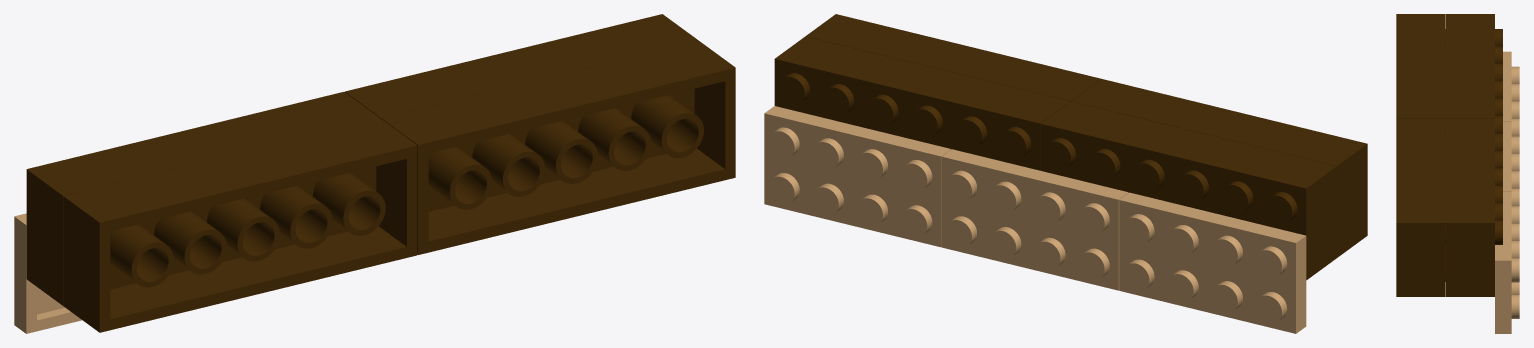
File: mesitaCelador.dae
3 renders of one model, left to right at view 1: azimuth 30°, elevation 25°; view 2: azimuth 150°, elevation 25°; view 3: azimuth 270°, elevation 25°, orthographic. The views are drawn at different scales.
Visible parts, largest first — view 1: Inner-Node-UntitledModel_dot_io-0, Inner-Node-UntitledModel_dot_io-1, Inner-Node-UntitledModel_dot_io-2, Inner-Node-UntitledModel_dot_io-3, Inner-Node-UntitledModel_dot_io-6; view 2: Inner-Node-UntitledModel_dot_io-2, Inner-Node-UntitledModel_dot_io-3, Inner-Node-UntitledModel_dot_io-6, Inner-Node-UntitledModel_dot_io-5, Inner-Node-UntitledModel_dot_io-4, Inner-Node-UntitledModel_dot_io-0, Inner-Node-UntitledModel_dot_io-1; view 3: Inner-Node-UntitledModel_dot_io-3, Inner-Node-UntitledModel_dot_io-1, Inner-Node-UntitledModel_dot_io-2, Inner-Node-UntitledModel_dot_io-0, Inner-Node-UntitledModel_dot_io-4, Inner-Node-UntitledModel_dot_io-6, Inner-Node-UntitledModel_dot_io-5.
Part boxes in pixels (box(x1,y1,x2,y2)): Inner-Node-UntitledModel_dot_io-0: box(63, 118, 417, 332); Inner-Node-UntitledModel_dot_io-1: box(381, 41, 735, 254); Inner-Node-UntitledModel_dot_io-2: box(26, 92, 380, 305); Inner-Node-UntitledModel_dot_io-3: box(345, 14, 698, 118); Inner-Node-UntitledModel_dot_io-6: box(14, 213, 81, 333); Inner-Node-UntitledModel_dot_io-2: box(1040, 101, 1336, 280); Inner-Node-UntitledModel_dot_io-3: box(774, 36, 1070, 170); Inner-Node-UntitledModel_dot_io-6: box(1119, 192, 1306, 333); Inner-Node-UntitledModel_dot_io-5: box(941, 149, 1128, 290); Inner-Node-UntitledModel_dot_io-4: box(764, 106, 951, 247); Inner-Node-UntitledModel_dot_io-0: box(1071, 79, 1367, 257); Inner-Node-UntitledModel_dot_io-1: box(805, 14, 1101, 101); Inner-Node-UntitledModel_dot_io-3: box(1445, 118, 1502, 296); Inner-Node-UntitledModel_dot_io-1: box(1396, 118, 1445, 296); Inner-Node-UntitledModel_dot_io-2: box(1445, 14, 1502, 133); Inner-Node-UntitledModel_dot_io-0: box(1396, 14, 1445, 133); Inner-Node-UntitledModel_dot_io-4: box(1495, 191, 1519, 333); Inner-Node-UntitledModel_dot_io-6: box(1503, 51, 1519, 136); Inner-Node-UntitledModel_dot_io-5: box(1503, 121, 1519, 205).
Size of the model in its own units: 240 by 59.4 by 59.87.
